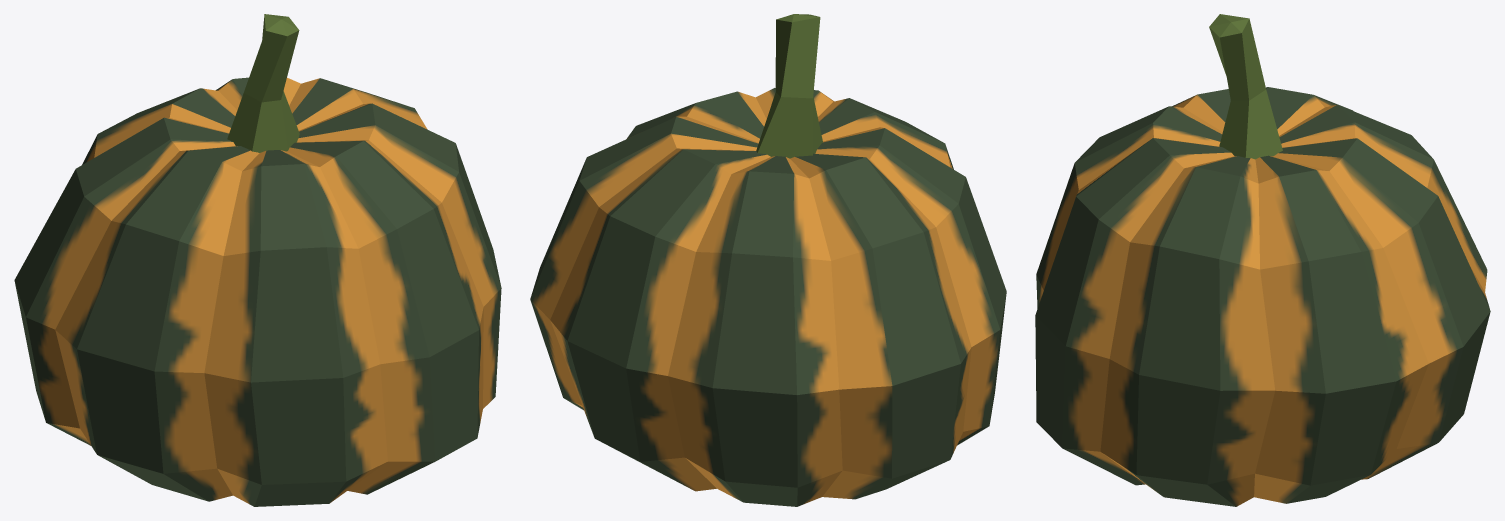
Rendered from SM_Prop_Pumpkin_Italian_01.glb.
3 renders of one model, left to right at view 1: azimuth 30°, elevation 25°; view 2: azimuth 150°, elevation 25°; view 3: azimuth 270°, elevation 25°, orthographic. The views are drawn at different scales.
Parts seen in each view (by area): view 1: SM_Prop_Pumpkin_Italian_01; view 2: SM_Prop_Pumpkin_Italian_01; view 3: SM_Prop_Pumpkin_Italian_01.
Part boxes in pixels (bbox=[...]): SM_Prop_Pumpkin_Italian_01: bbox=[14, 14, 501, 506]; SM_Prop_Pumpkin_Italian_01: bbox=[530, 14, 1006, 506]; SM_Prop_Pumpkin_Italian_01: bbox=[1035, 14, 1490, 506].
Size of the model in its own units: 0.3183 by 0.3196 by 0.3015.
Materials: 1 (1 with a texture image).
